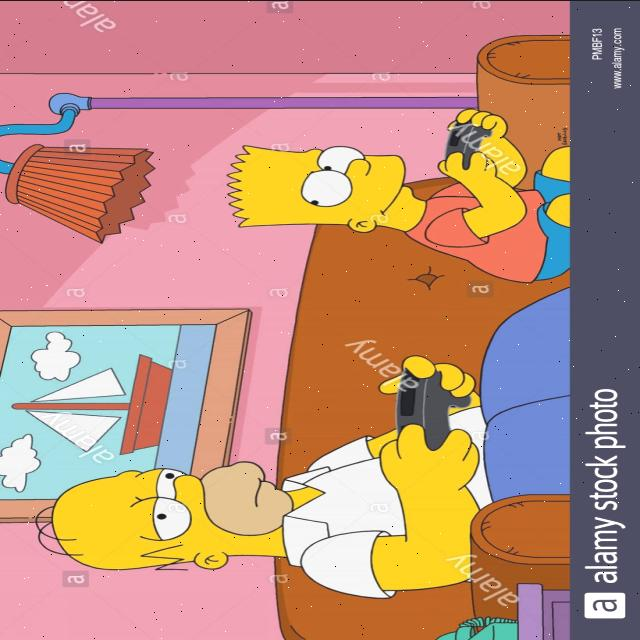Bart Simpson: (224, 142, 434, 234)
Homer Simpson: (32, 458, 304, 574)
